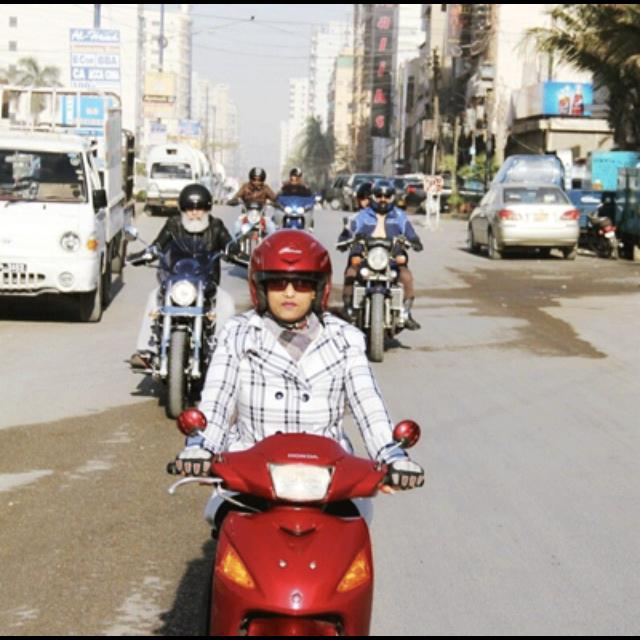With Helmet: (246, 225, 334, 327), (175, 180, 212, 234), (368, 175, 397, 213), (249, 164, 267, 192)
